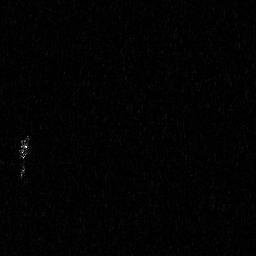ship: (17, 132, 30, 182)
